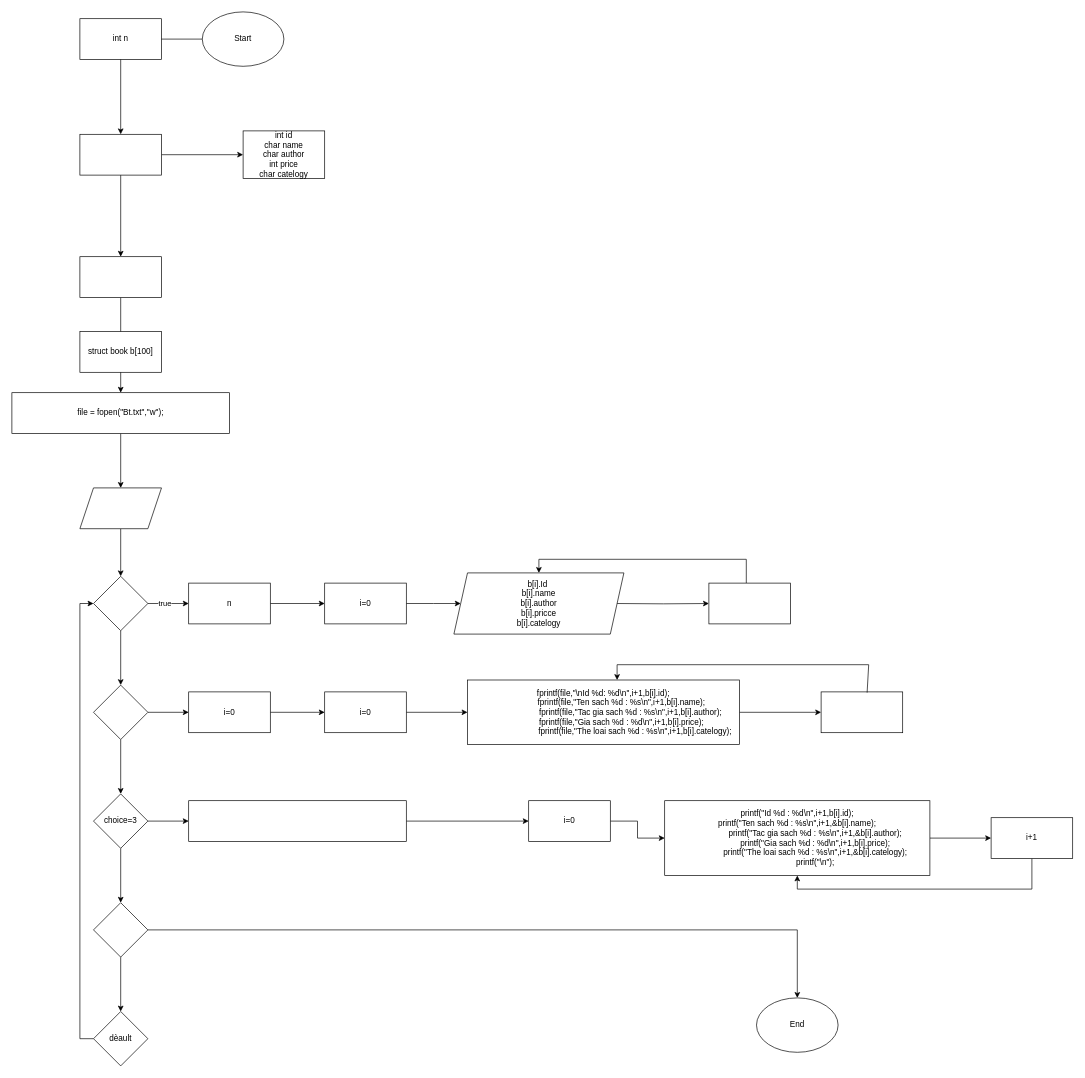
Image size: 1085x1078. Some labels were removed from this diagram. Here are the shapes that lost their labels. From the top down, the centre of each, then its label:
(120,154): struct Book
(120,277): FILE *file
(120,508): choice
(120,603): choice =1
(749,603): i+1 cho đến khi =n-1
(120,712): choice =2
(861,712): i+1 cho đến khi = n-1
(297,821): file = fopen("Bt.txt(PVM)","r+");
(120,929): choice 4
